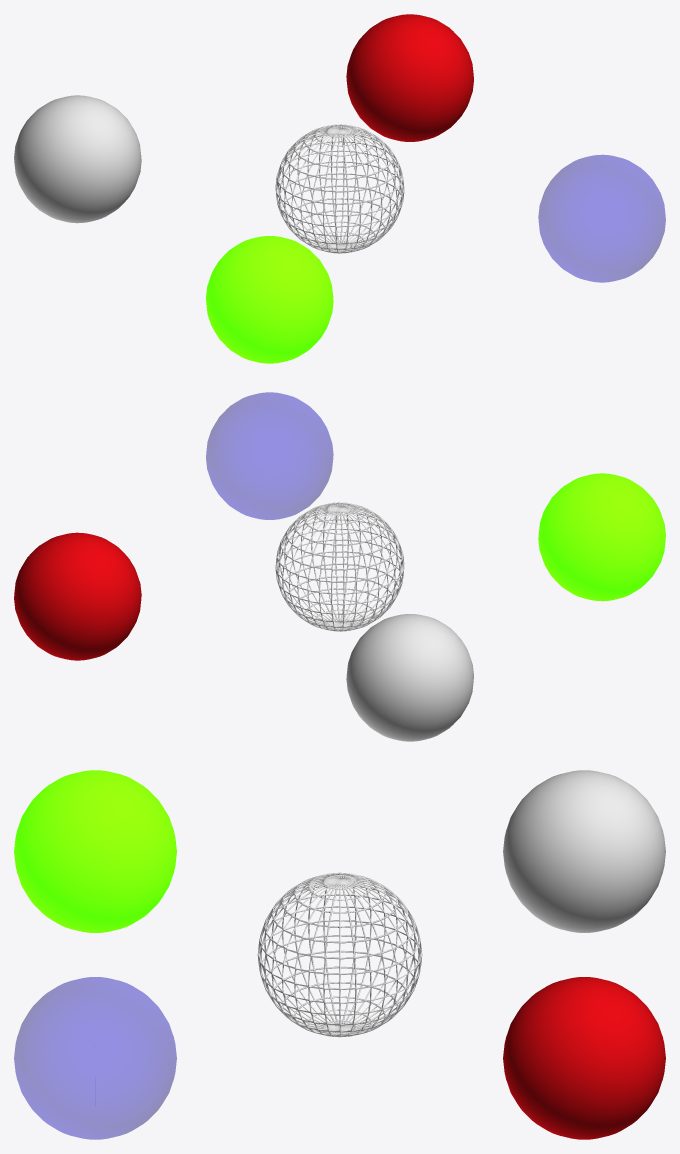
The picture shows the model from 3 angles, top to bottom: view 1: azimuth 30°, elevation 25°; view 2: azimuth 150°, elevation 25°; view 3: azimuth 270°, elevation 25°; orthographic projection. The views are drawn at different scales.
Parts seen in each view (by area): view 1: Sphere.003, Sphere.001, Sphere.002, Sphere.004, Sphere; view 2: Sphere.001, Sphere.002, Sphere.003, Sphere.004, Sphere; view 3: Sphere.001, Sphere.002, Sphere.003, Sphere.004, Sphere.
Boxes of the visible parts, x1,y1,x2,y2 form: Sphere.003: [14, 95, 141, 223]; Sphere.001: [206, 236, 333, 363]; Sphere.002: [346, 14, 473, 141]; Sphere.004: [538, 155, 665, 282]; Sphere: [275, 124, 404, 253]; Sphere.001: [538, 473, 665, 601]; Sphere.002: [14, 532, 141, 660]; Sphere.003: [346, 614, 473, 741]; Sphere.004: [206, 392, 333, 519]; Sphere: [275, 502, 404, 631]; Sphere.001: [14, 770, 176, 932]; Sphere.002: [503, 977, 665, 1139]; Sphere.003: [503, 770, 665, 932]; Sphere.004: [14, 977, 176, 1139]; Sphere: [257, 872, 422, 1037].
Bounding box in the file's own units: 2 × 0.505 × 2.
